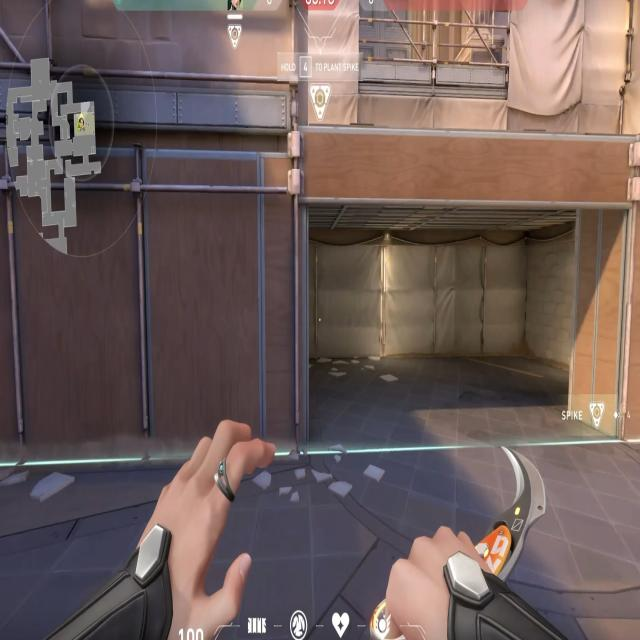A_Hell: (278, 102, 640, 472)
